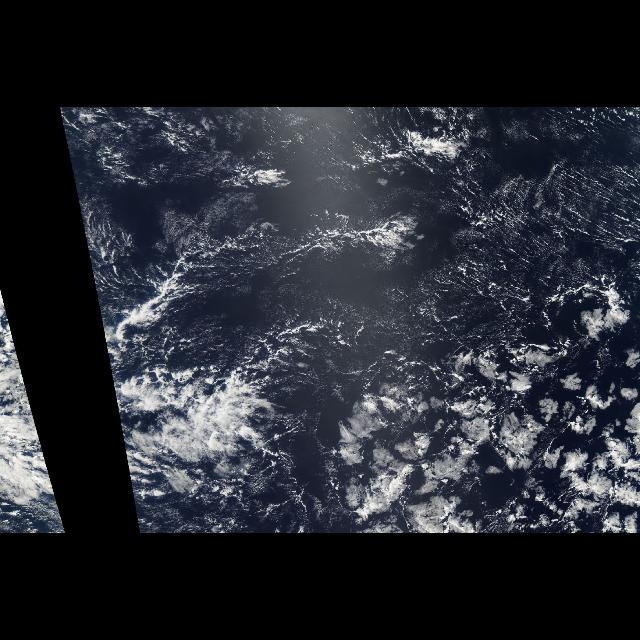Fish: (106, 213, 342, 462)
Flower: (324, 296, 640, 534)
Sugar: (68, 110, 640, 376)
